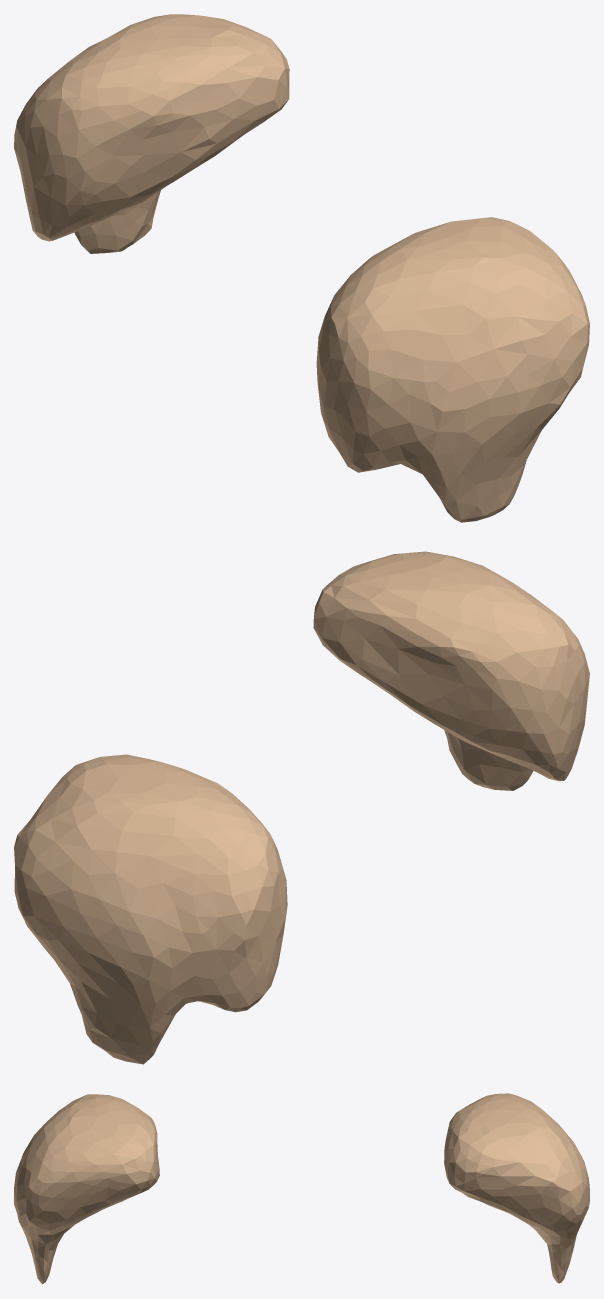
The picture shows the model from 3 angles, top to bottom: view 1: azimuth 30°, elevation 25°; view 2: azimuth 150°, elevation 25°; view 3: azimuth 270°, elevation 25°; orthographic projection. The views are drawn at different scales.
Parts seen in each view (by area): view 1: 398.obj; view 2: 398.obj; view 3: 398.obj.
Boxes of the visible parts, x1,y1,x2,y2 form: 398.obj: [14, 14, 589, 522]; 398.obj: [14, 551, 589, 1064]; 398.obj: [14, 1093, 589, 1284].
Size of the model in its own units: 1092 by 1102 by 3327.
